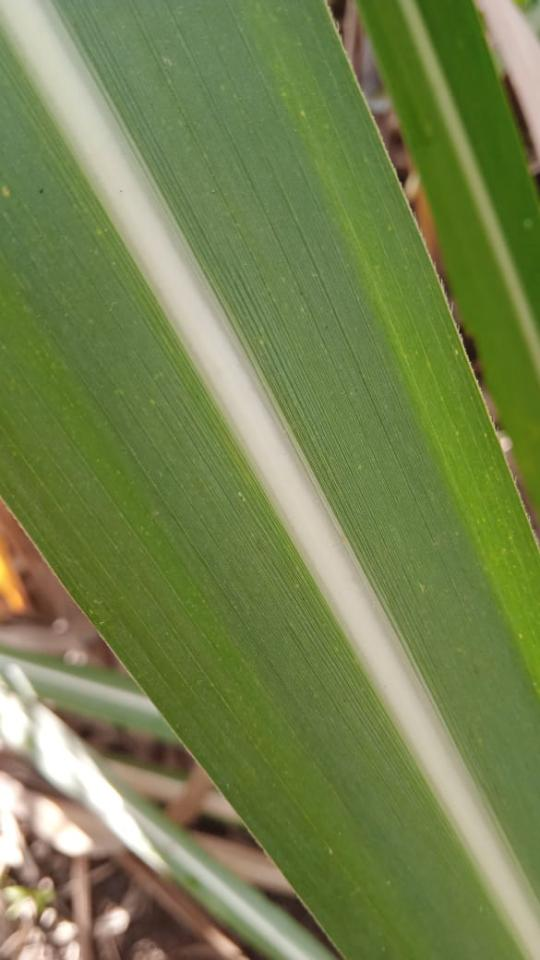Healthy: (0, 0, 539, 959), (355, 0, 539, 522)
